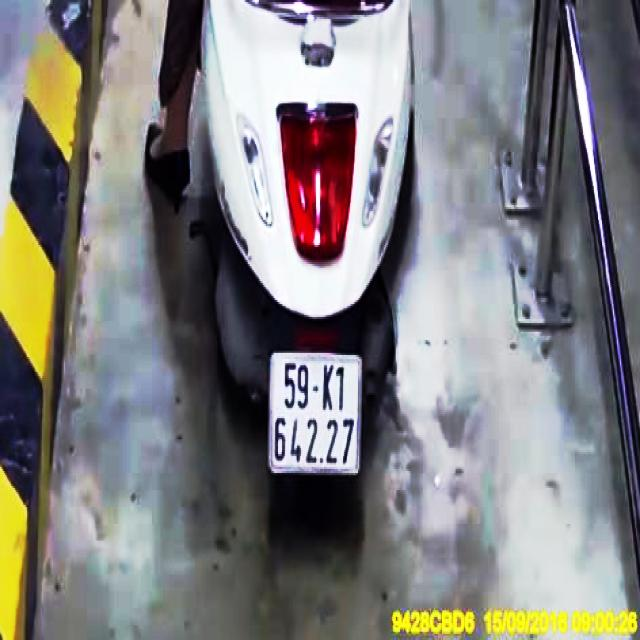license_plate: (271, 355, 363, 476)
